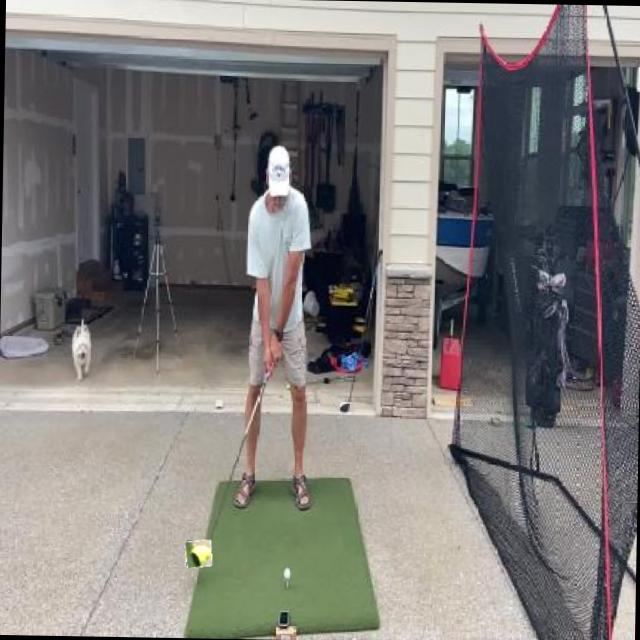club head: (185, 540, 212, 568)
